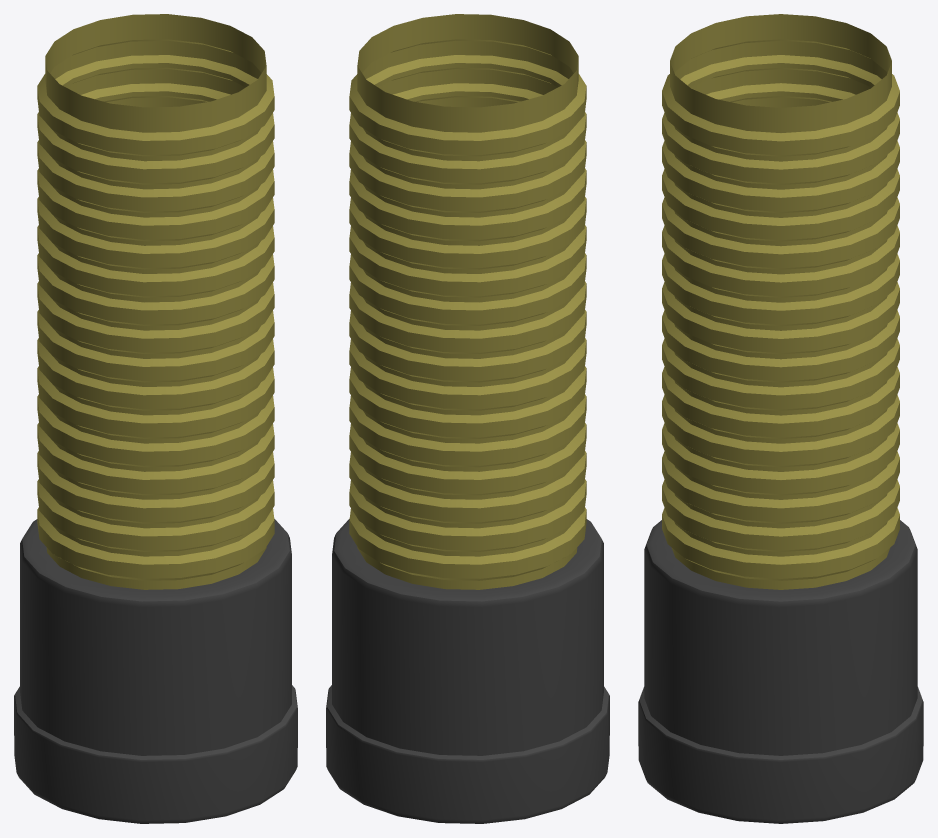
The model's file is Splitter_Blnd.fbx.
The picture shows the model from 3 angles, left to right: view 1: azimuth 30°, elevation 25°; view 2: azimuth 150°, elevation 25°; view 3: azimuth 270°, elevation 25°; orthographic projection.
Parts seen in each view (by area): view 1: Splitter_Blnd; view 2: Splitter_Blnd; view 3: Splitter_Blnd.
Part boxes in pixels (box(x1,y1,x2,y2)): Splitter_Blnd: box(14, 14, 297, 823); Splitter_Blnd: box(326, 14, 609, 823); Splitter_Blnd: box(638, 14, 923, 823).
Size of the model in its own units: 268 by 733 by 268.
